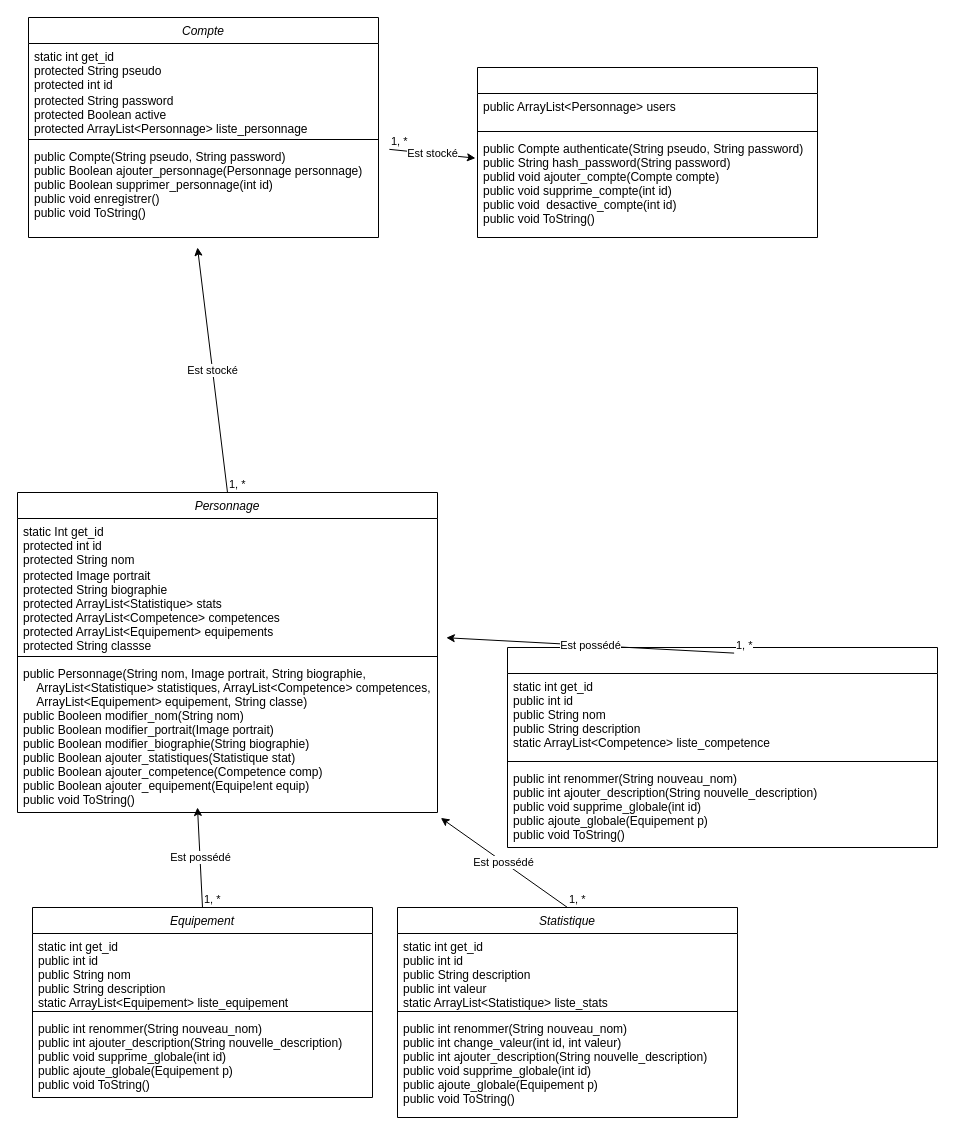
The diagram is 955 pixels wide and 1138 high, and some of its shapes have lost their labels. Here are the shapes that lost their labels. From the top down, the box of each, then its label:
(476, 66, 818, 238): Base_de_donnees
(506, 646, 938, 848): Compétence
